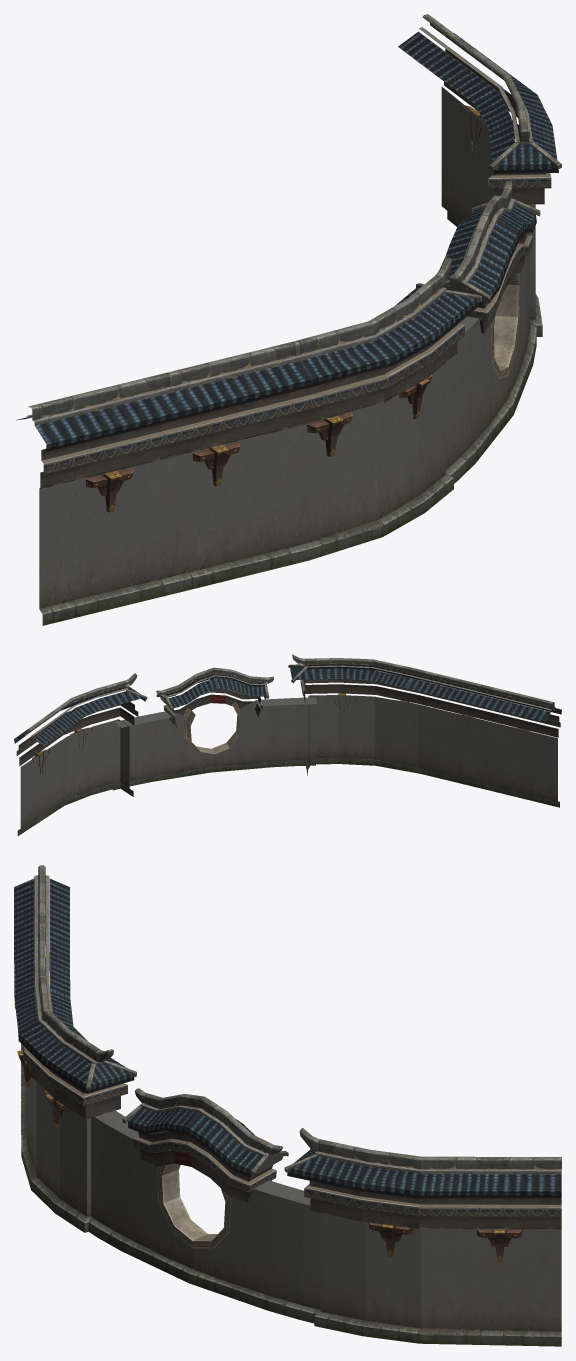
The model's file is cj_luoyang_weiqiang01_56_10_9855out.fbx.
The picture shows the model from 3 angles, top to bottom: view 1: azimuth 30°, elevation 25°; view 2: azimuth 150°, elevation 25°; view 3: azimuth 270°, elevation 25°; orthographic projection. The views are drawn at different scales.
Visible parts, largest first — view 1: cj_luoyang_weiqiang01; view 2: cj_luoyang_weiqiang01; view 3: cj_luoyang_weiqiang01.
Boxes of the visible parts, bbox=[...] form: cj_luoyang_weiqiang01: bbox=[16, 14, 561, 625]; cj_luoyang_weiqiang01: bbox=[14, 654, 561, 835]; cj_luoyang_weiqiang01: bbox=[14, 865, 561, 1346].
Bounding box in the file's own units: 17.49 × 5.02 × 13.31.
